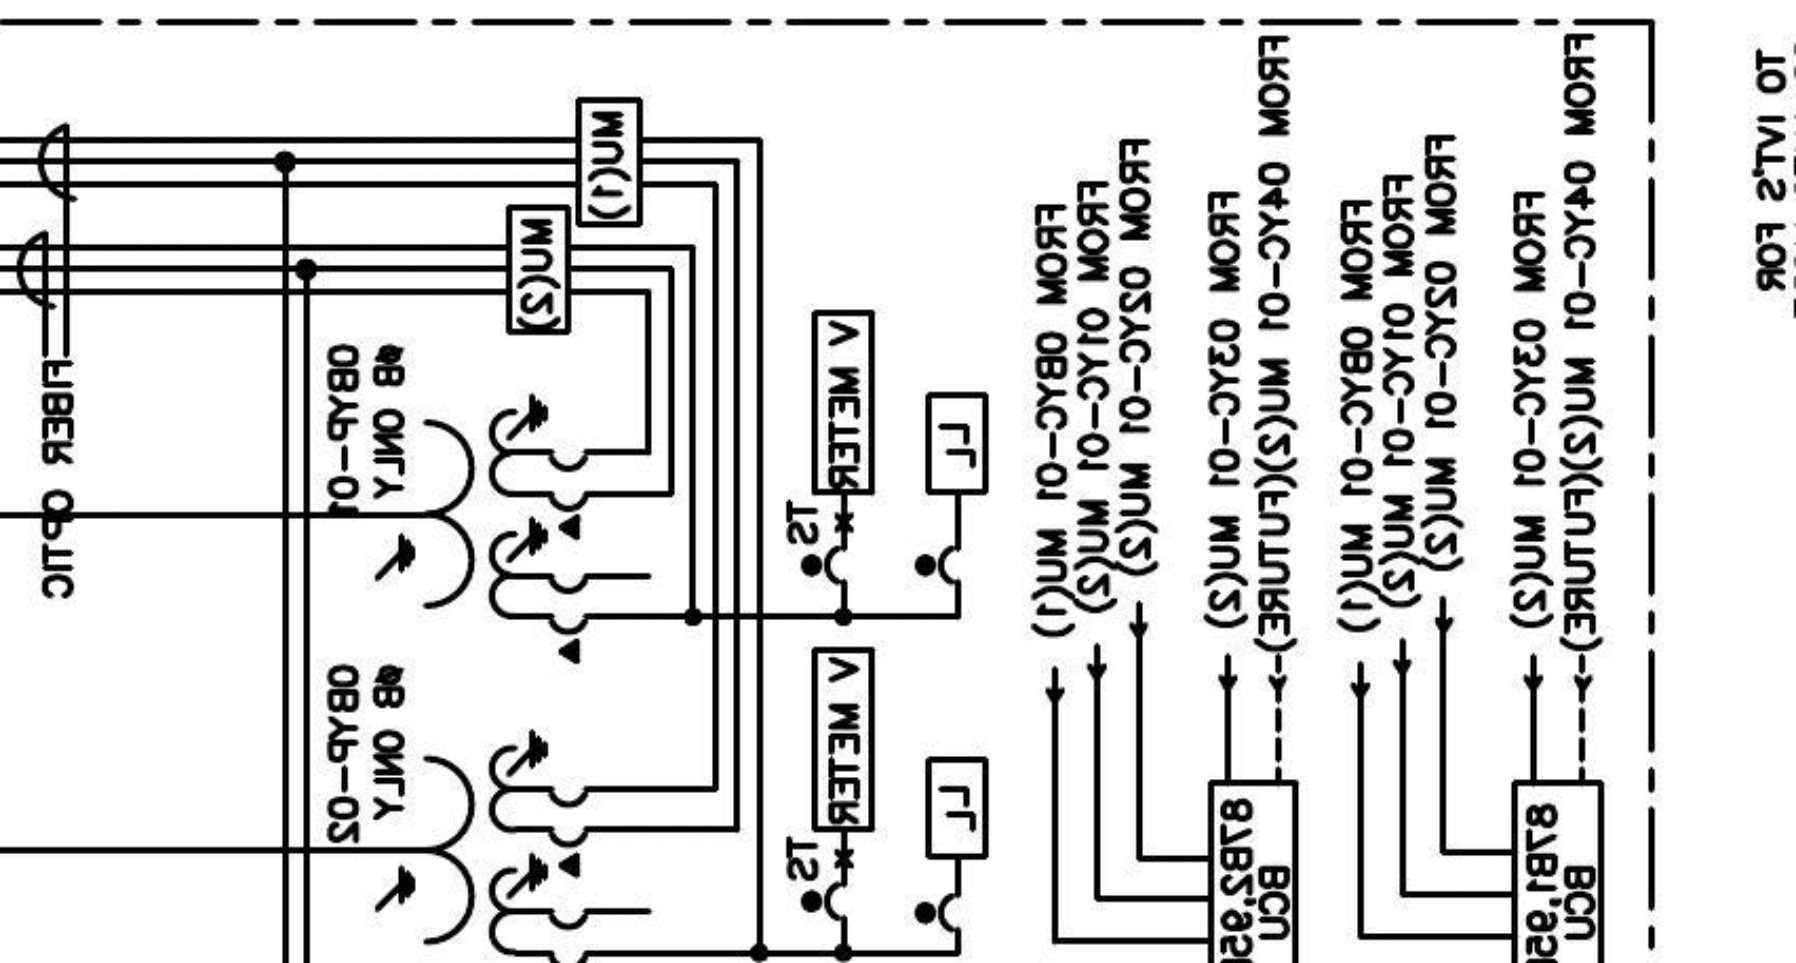115_vt_1p: (374, 392, 590, 665)
LL: (924, 755, 991, 861), (924, 391, 989, 496)
MU: (575, 95, 645, 229), (505, 203, 573, 337)
v_m_digital: (809, 645, 877, 835), (809, 309, 877, 498)
